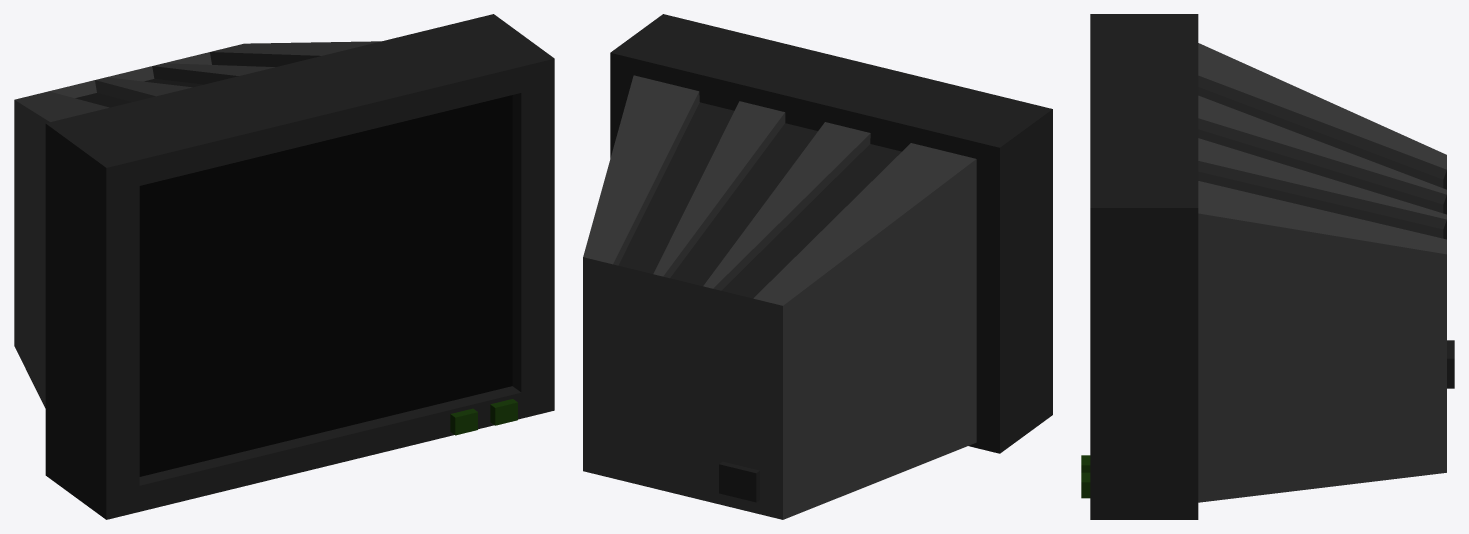
3 renders of one model, left to right at view 1: azimuth 30°, elevation 25°; view 2: azimuth 150°, elevation 25°; view 3: azimuth 270°, elevation 25°, orthographic. The views are drawn at different scales.
Visible parts, largest first — view 1: TV; view 2: TV; view 3: TV.
Boxes of the visible parts, left/top/right/bottom form: TV: left=14, top=14, right=554, bottom=519; TV: left=583, top=14, right=1052, bottom=519; TV: left=1081, top=14, right=1454, bottom=519.
Size of the model in its own units: 89.58 by 67.22 by 72.82.
